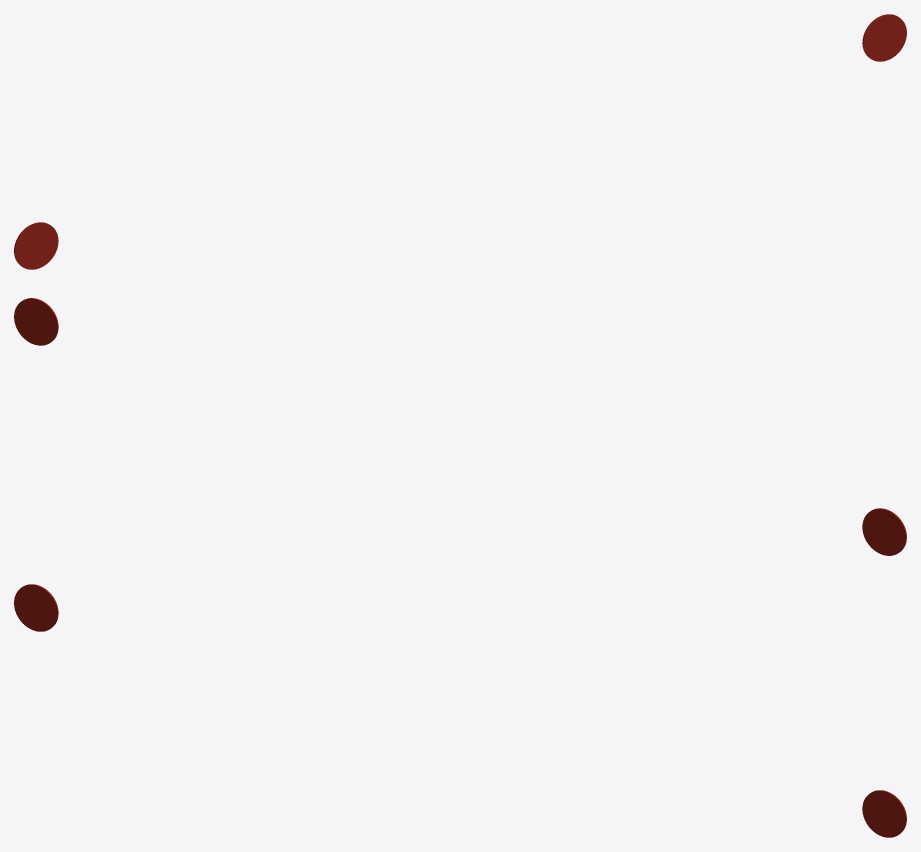
Rendered from SM_Saro07_TailLens.fbx.
The picture shows the model from 3 angles, top to bottom: view 1: azimuth 30°, elevation 25°; view 2: azimuth 150°, elevation 25°; view 3: azimuth 330°, elevation 25°; orthographic projection.
Visible parts, largest first — view 1: SM_Saro07_TailLens; view 2: SM_Saro07_TailLens; view 3: SM_Saro07_TailLens.
Part boxes in pixels (x1,y1,x2,y2): SM_Saro07_TailLens: [14, 14, 906, 269]; SM_Saro07_TailLens: [14, 298, 906, 555]; SM_Saro07_TailLens: [14, 584, 906, 837].
Size of the model in its own units: 183 by 0.7 by 9.42.
